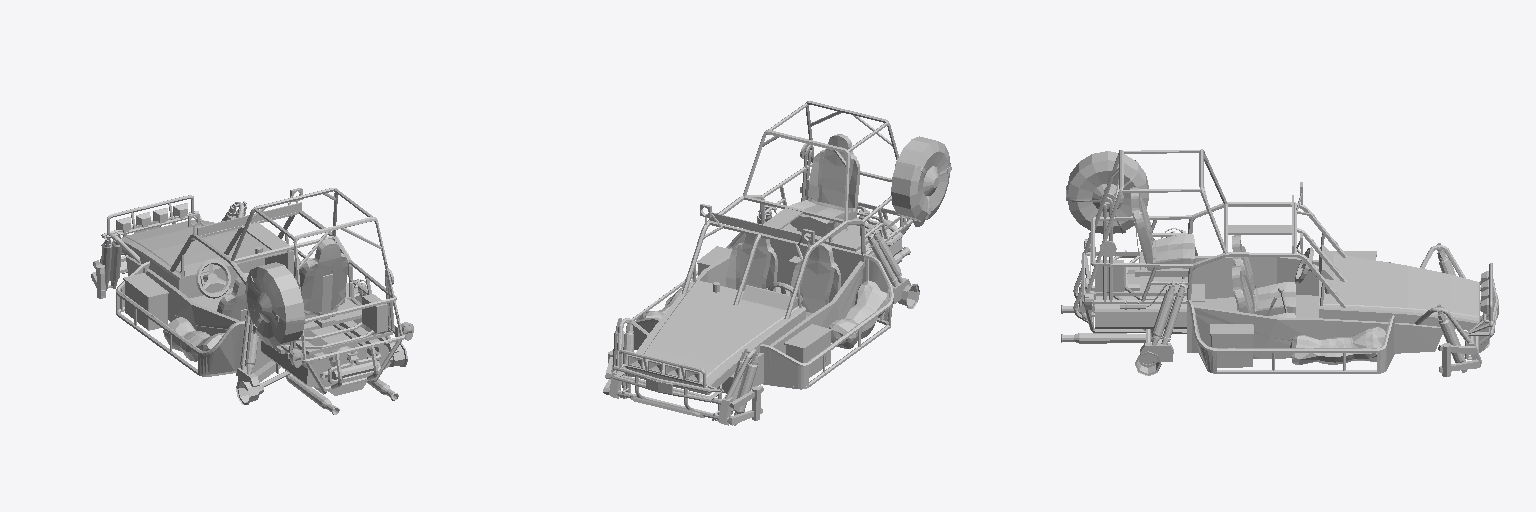
The model's file is chassiold.obj.
3 renders of one model, left to right at view 1: azimuth 30°, elevation 25°; view 2: azimuth 150°, elevation 25°; view 3: azimuth 270°, elevation 25°, orthographic.
Parts seen in each view (by area): view 1: Mesh_0020; view 2: Mesh_0020; view 3: Mesh_0020.
Boxes of the visible parts, x1=… form: Mesh_0020: x1=91, y1=188, x2=413, y2=414; Mesh_0020: x1=603, y1=101, x2=951, y2=425; Mesh_0020: x1=1061, y1=149, x2=1498, y2=376.
Bounding box in the file's own units: 202 × 189 × 427.